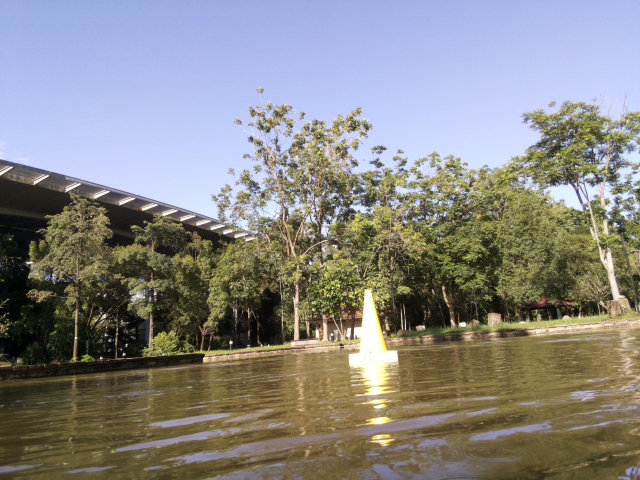checkpoint: (347, 288, 400, 367)
